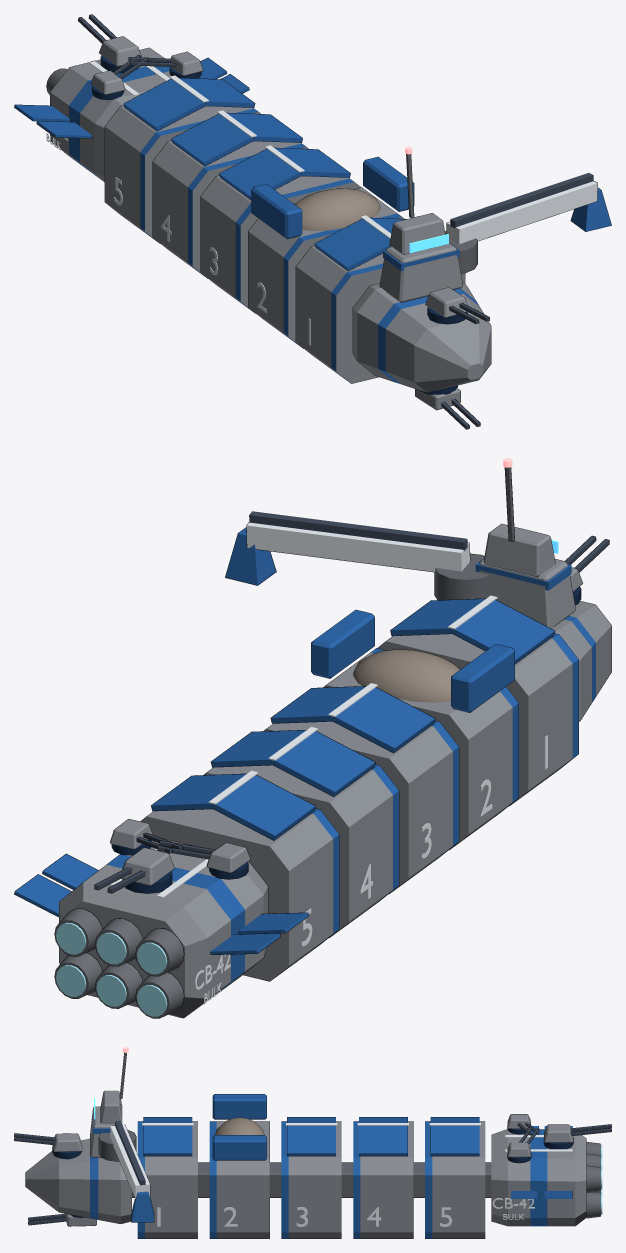
Rendered from Cargo_Capital_Bulk.fbx.
3 views of the same model, one above another, from view 1: azimuth 30°, elevation 25°; view 2: azimuth 150°, elevation 25°; view 3: azimuth 270°, elevation 25° (orthographic). The views are drawn at different scales.
Parts seen in each view (by area): view 1: Bow.001, Hold0, Hold3, Hold4, Hold2, Hold1, Engine.001, Bridge_A.001, Boom_Truss, Hold1_Ore, Hold3_Hatch-1, Hold4_Hatch-1 (+17 smaller); view 2: Engine.001, Hold4, Hold0, Hold2, Hold3, Hold1, Boom_Truss, Hold1_Ore, Bow.001, Hold3_Hatch-1, Hold4_Hatch-1, Hold2_Hatch-1 (+32 smaller); view 3: Engine.001, Bow.001, Hold4, Hold2, Hold3, Hold1, Hold0, Spine.001, Hold0_Hatch1, Hold4_Hatch1, Hold2_Hatch1, Hold3_Hatch1 (+20 smaller).
Part boxes in pixels (<box>): Bow.001: <box>352,282,491,392</box>; Hold0: <box>295,245,465,383</box>; Hold3: <box>152,140,308,278</box>; Hold4: <box>104,105,260,243</box>; Hold2: <box>200,175,360,313</box>; Hold1: <box>248,187,404,348</box>; Engine.001: <box>50,47,170,181</box>; Bridge_A.001: <box>379,243,462,302</box>; Boom_Truss: <box>446,181,597,244</box>; Hold1_Ore: <box>295,188,380,230</box>; Hold3_Hatch-1: <box>171,113,253,166</box>; Hold4_Hatch-1: <box>123,79,205,131</box>; Engine.001: <box>59,838,268,1018</box>; Hold4: <box>140,808,339,981</box>; Hold0: <box>377,633,578,806</box>; Hold2: <box>263,720,459,893</box>; Hold3: <box>204,764,399,937</box>; Hold1: <box>323,648,518,850</box>; Boom_Truss: <box>246,522,470,572</box>; Hold1_Ore: <box>353,649,460,702</box>; Bow.001: <box>551,601,611,721</box>; Hold3_Hatch-1: <box>272,731,375,796</box>; Hold4_Hatch-1: <box>212,775,315,840</box>; Hold2_Hatch-1: <box>332,687,435,753</box>; Engine.001: <box>491,1129,586,1226</box>; Bow.001: <box>25,1138,131,1223</box>; Hold4: <box>425,1121,485,1238</box>; Hold2: <box>281,1121,341,1238</box>; Hold3: <box>353,1121,413,1238</box>; Hold1: <box>209,1121,269,1238</box>; Hold0: <box>137,1121,197,1238</box>; Spine.001: <box>131,1162,491,1197</box>; Hold0_Hatch1: <box>143,1125,192,1156</box>; Hold4_Hatch1: <box>430,1125,479,1156</box>; Hold2_Hatch1: <box>287,1125,335,1156</box>; Hold3_Hatch1: <box>359,1125,407,1156</box>.
Size of the model in its own units: 165 by 120 by 373.
